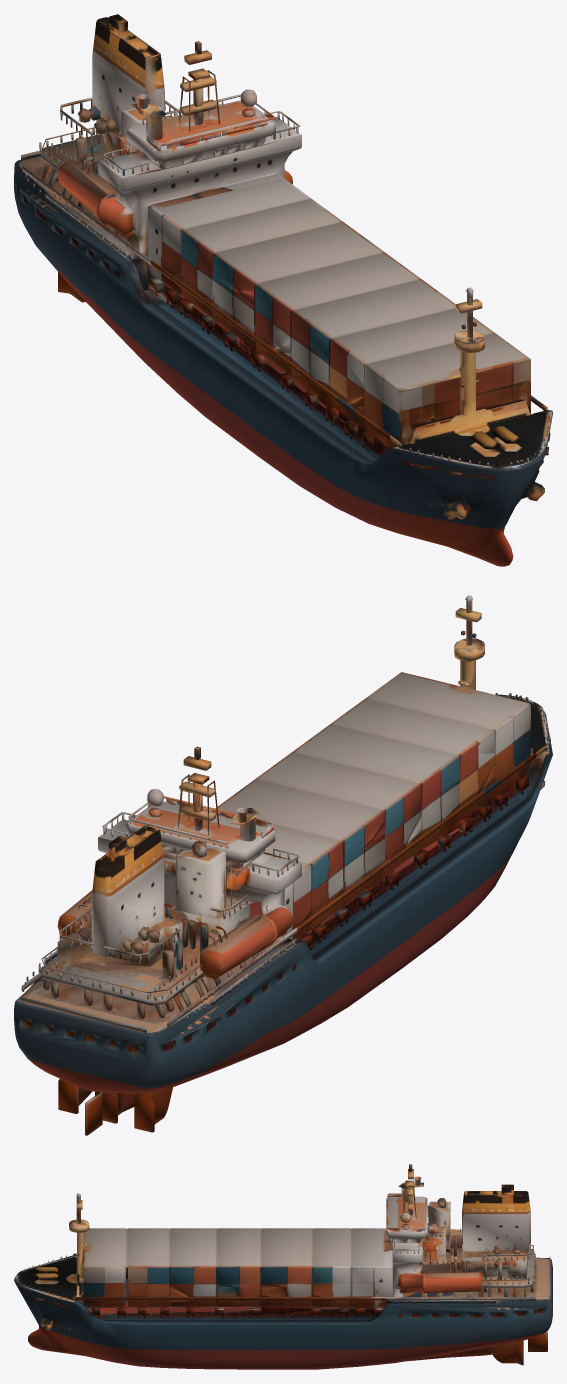
The model's file is a_cargo_ship_c5c49473_v1.glb.
3 renders of one model, top to bottom at view 1: azimuth 30°, elevation 25°; view 2: azimuth 150°, elevation 25°; view 3: azimuth 270°, elevation 25°, orthographic. The views are drawn at different scales.
Visible parts, largest first — view 1: material; view 2: material; view 3: material.
Boxes of the visible parts, x1=… form: material: x1=14, y1=14, x2=552, y2=566; material: x1=14, y1=595, x2=552, y2=1135; material: x1=14, y1=1164, x2=552, y2=1369.
Size of the model in its own units: 0.4472 by 0.7421 by 1.9.
1 material, 1 textured.
